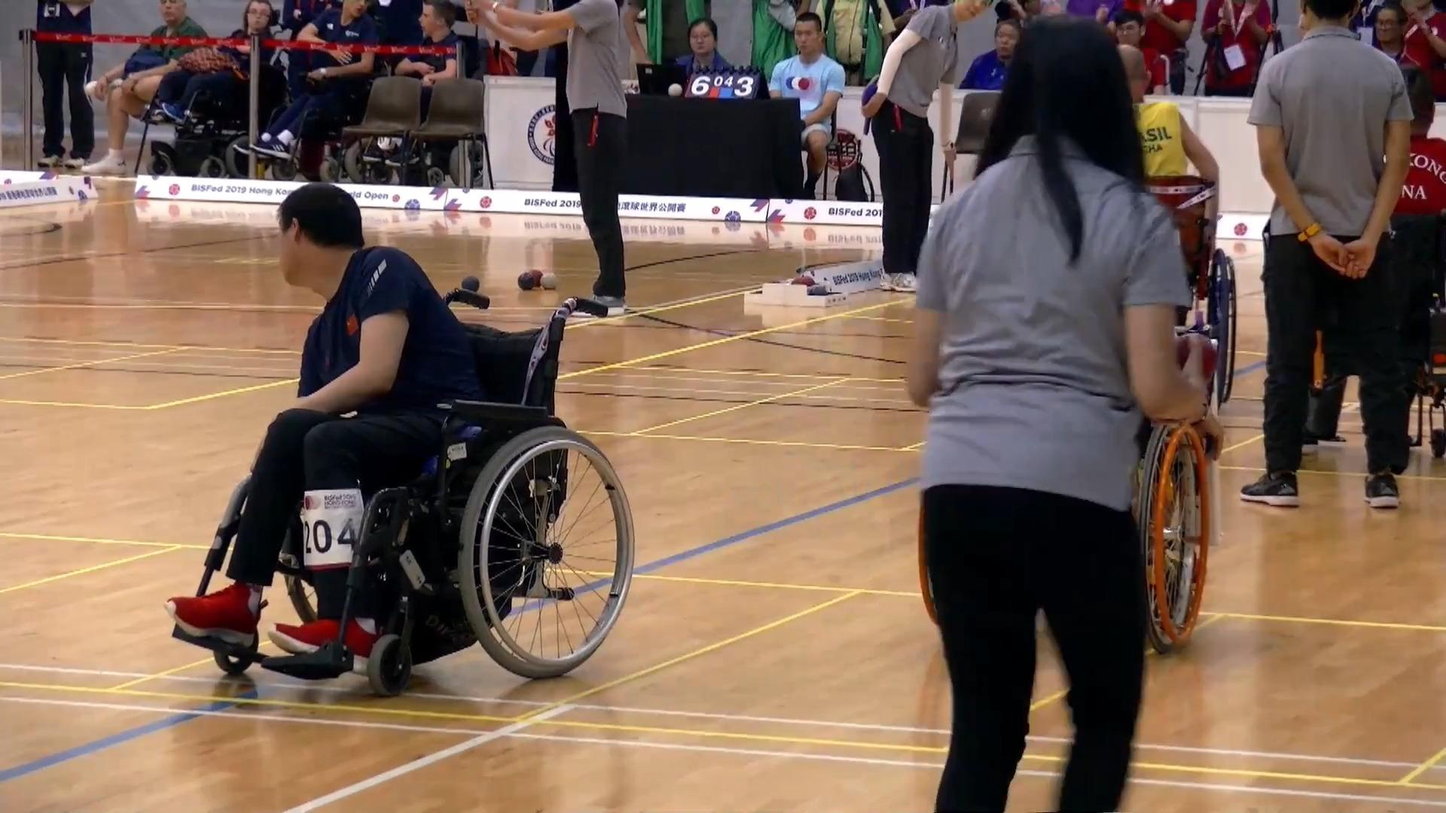blue_ball: (460, 275, 483, 294), (517, 272, 537, 293)
white_ball: (538, 271, 560, 292)
